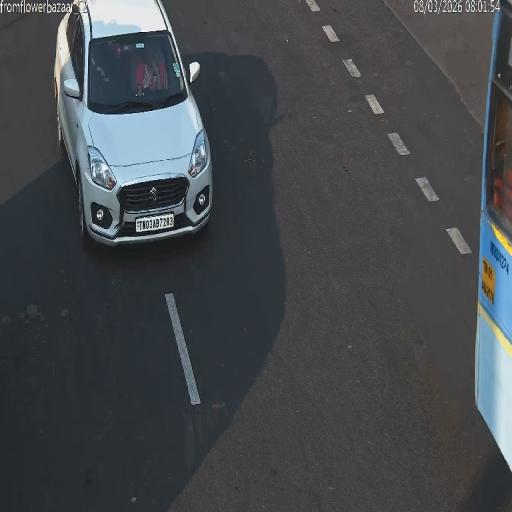person_with_seatbelt: (144, 52, 159, 88), (92, 56, 110, 84)
